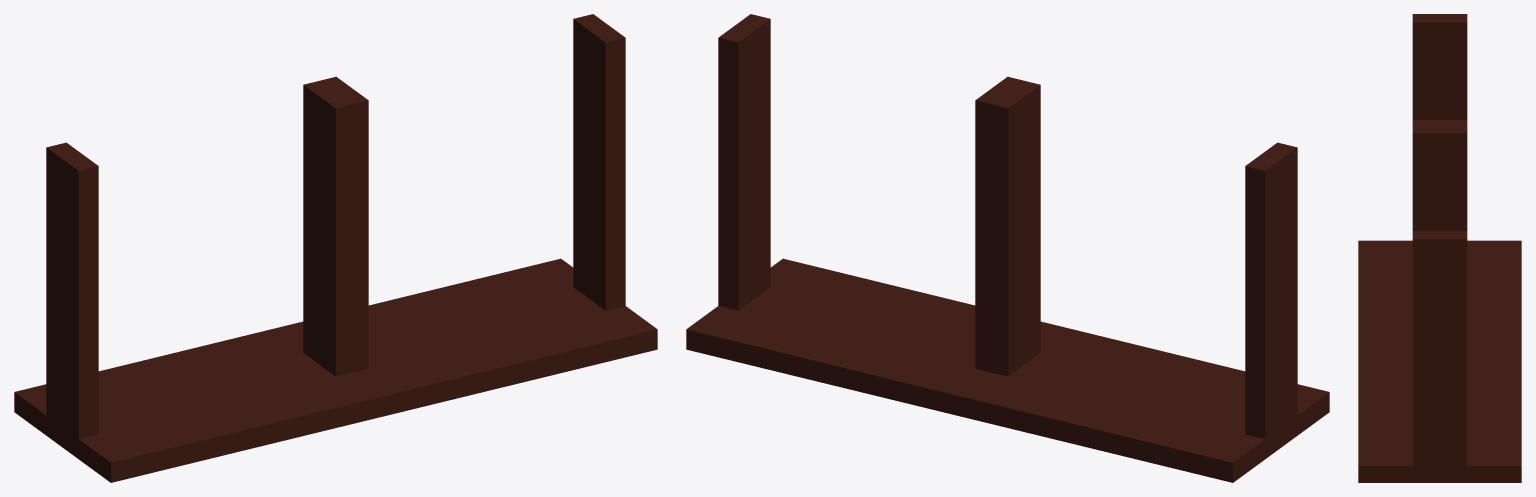
Rendered from Window.fbx.
3 renders of one model, left to right at view 1: azimuth 30°, elevation 25°; view 2: azimuth 150°, elevation 25°; view 3: azimuth 270°, elevation 25°, orthographic. The views are drawn at different scales.
Parts seen in each view (by area): view 1: Window; view 2: Window; view 3: Window.
Boxes of the visible parts, x1,y1,x2,y2 form: Window: [14, 14, 657, 482]; Window: [686, 14, 1329, 482]; Window: [1358, 14, 1521, 482].
Bounding box in the file's own units: 400 × 202 × 123.
